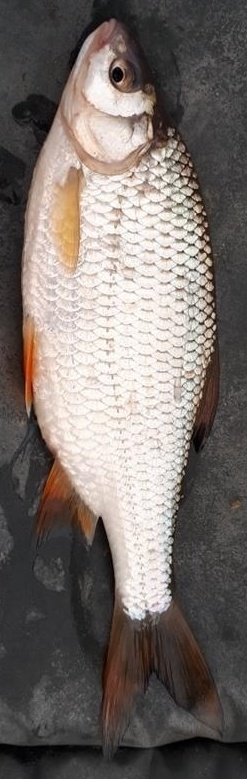Leuciscus idus: (20, 20, 227, 759)
